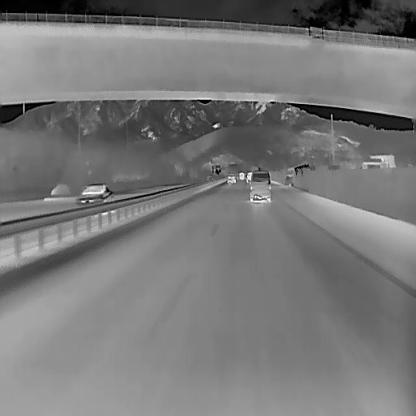car: (76, 182, 114, 206), (248, 170, 271, 203), (226, 172, 236, 184), (245, 170, 254, 182)
truck: (238, 170, 244, 180)
